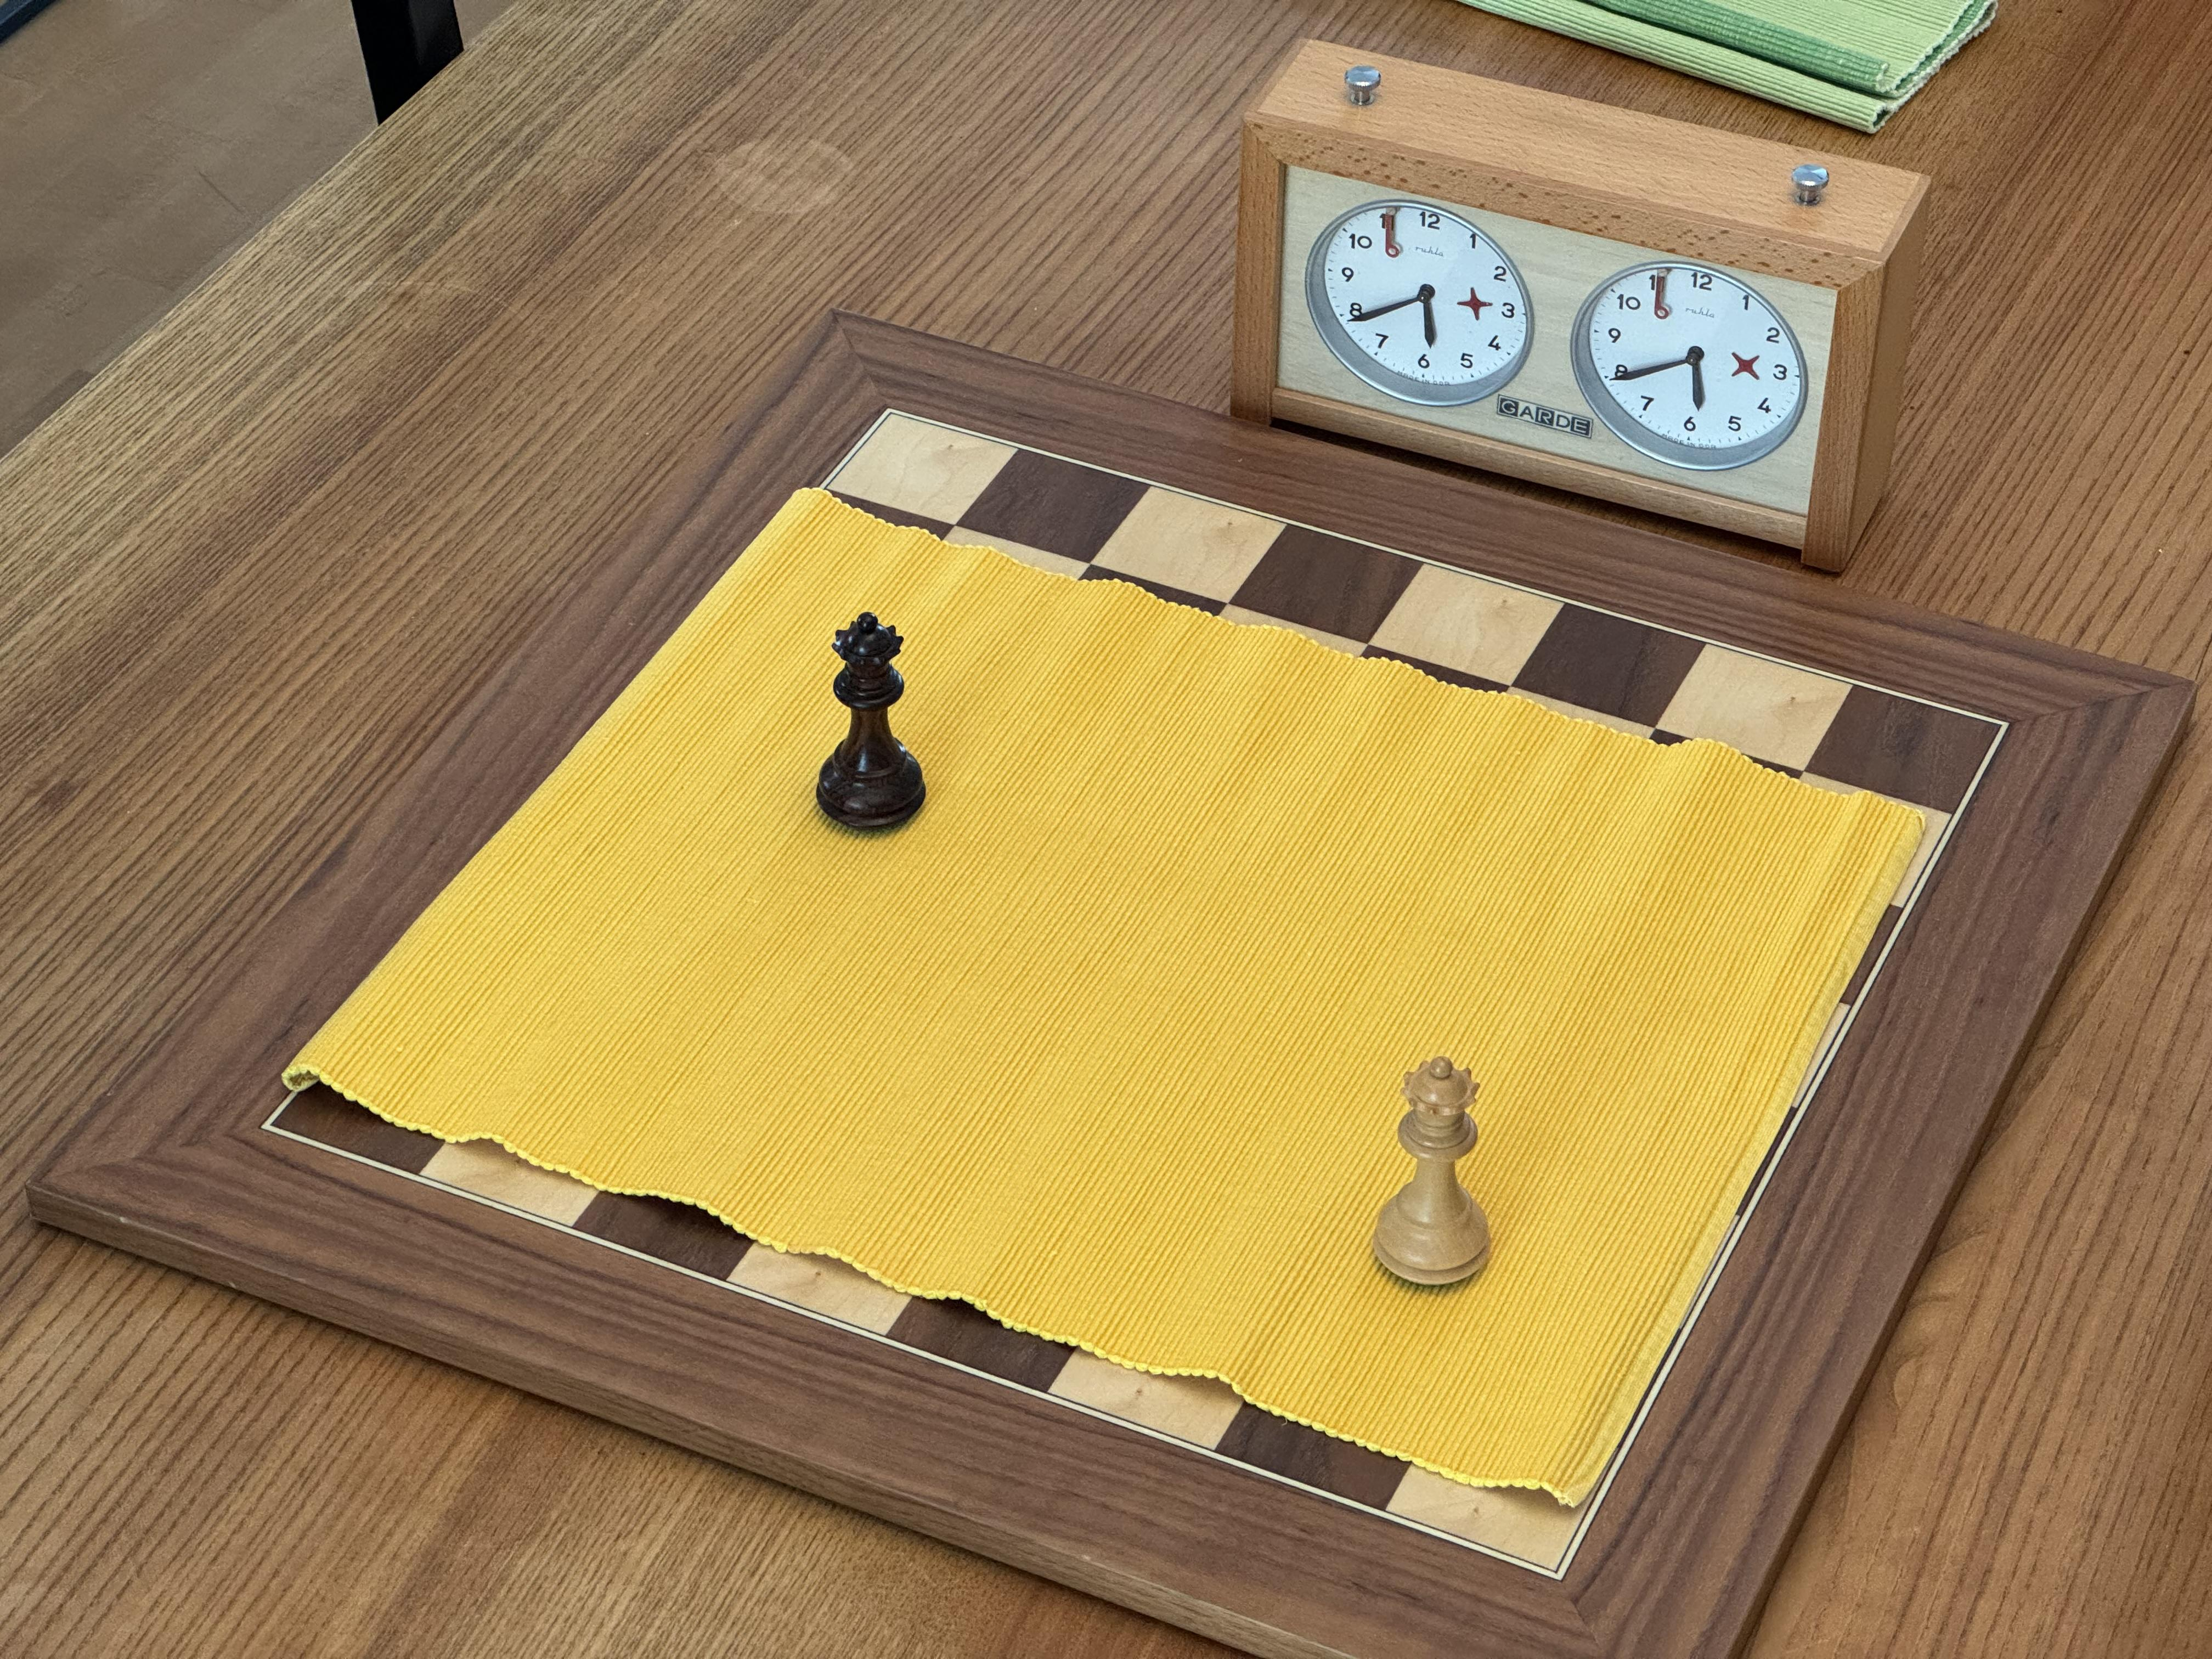Black Queen: (812, 608, 932, 842)
White Queen: (1366, 1051, 1498, 1298)
